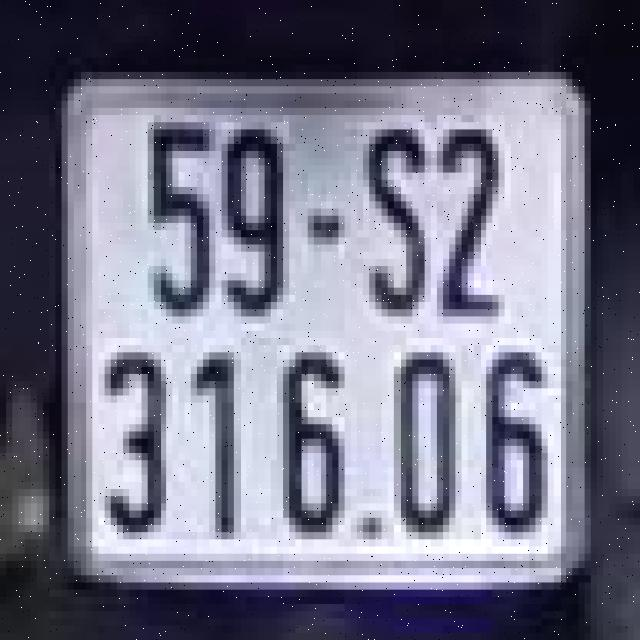0: (378, 338, 471, 539)
1: (184, 345, 258, 554)
2: (434, 104, 508, 327)
3: (96, 341, 182, 543)
5: (138, 104, 218, 334)
6: (277, 338, 357, 546), (477, 342, 557, 536)
9: (222, 97, 296, 334)
S: (360, 119, 440, 327)
